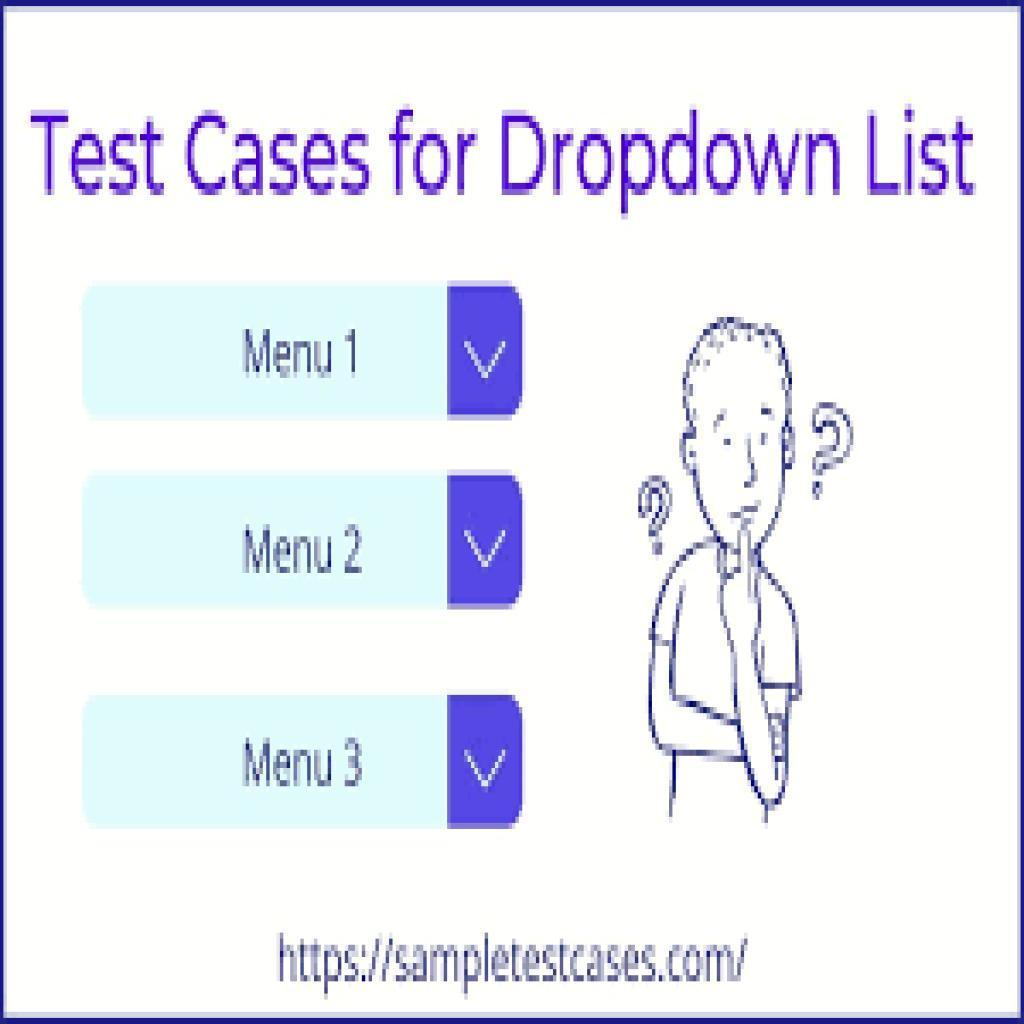dropdown: (87, 696, 522, 831), (88, 475, 522, 606), (83, 286, 523, 415)
